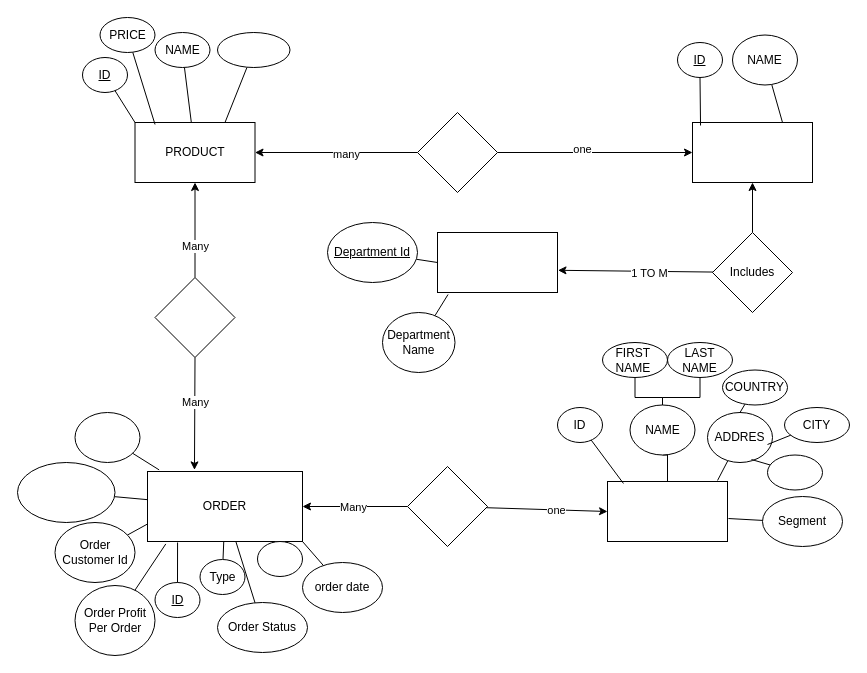
Image size: 867x673. Some labels were removed from this diagram. Each missing label, with the centre of its shape:
Belongs to: point 457,152
Category: point 752,152
Category ID: point 253,50
Contains: point 194,317
Customer: point 667,511
Delivery Status: point 107,437
Department: point 497,262
Order Item Cardprod Id: point 65,492
Places: point 447,506
Sales: point 279,558
STREET: point 794,472
